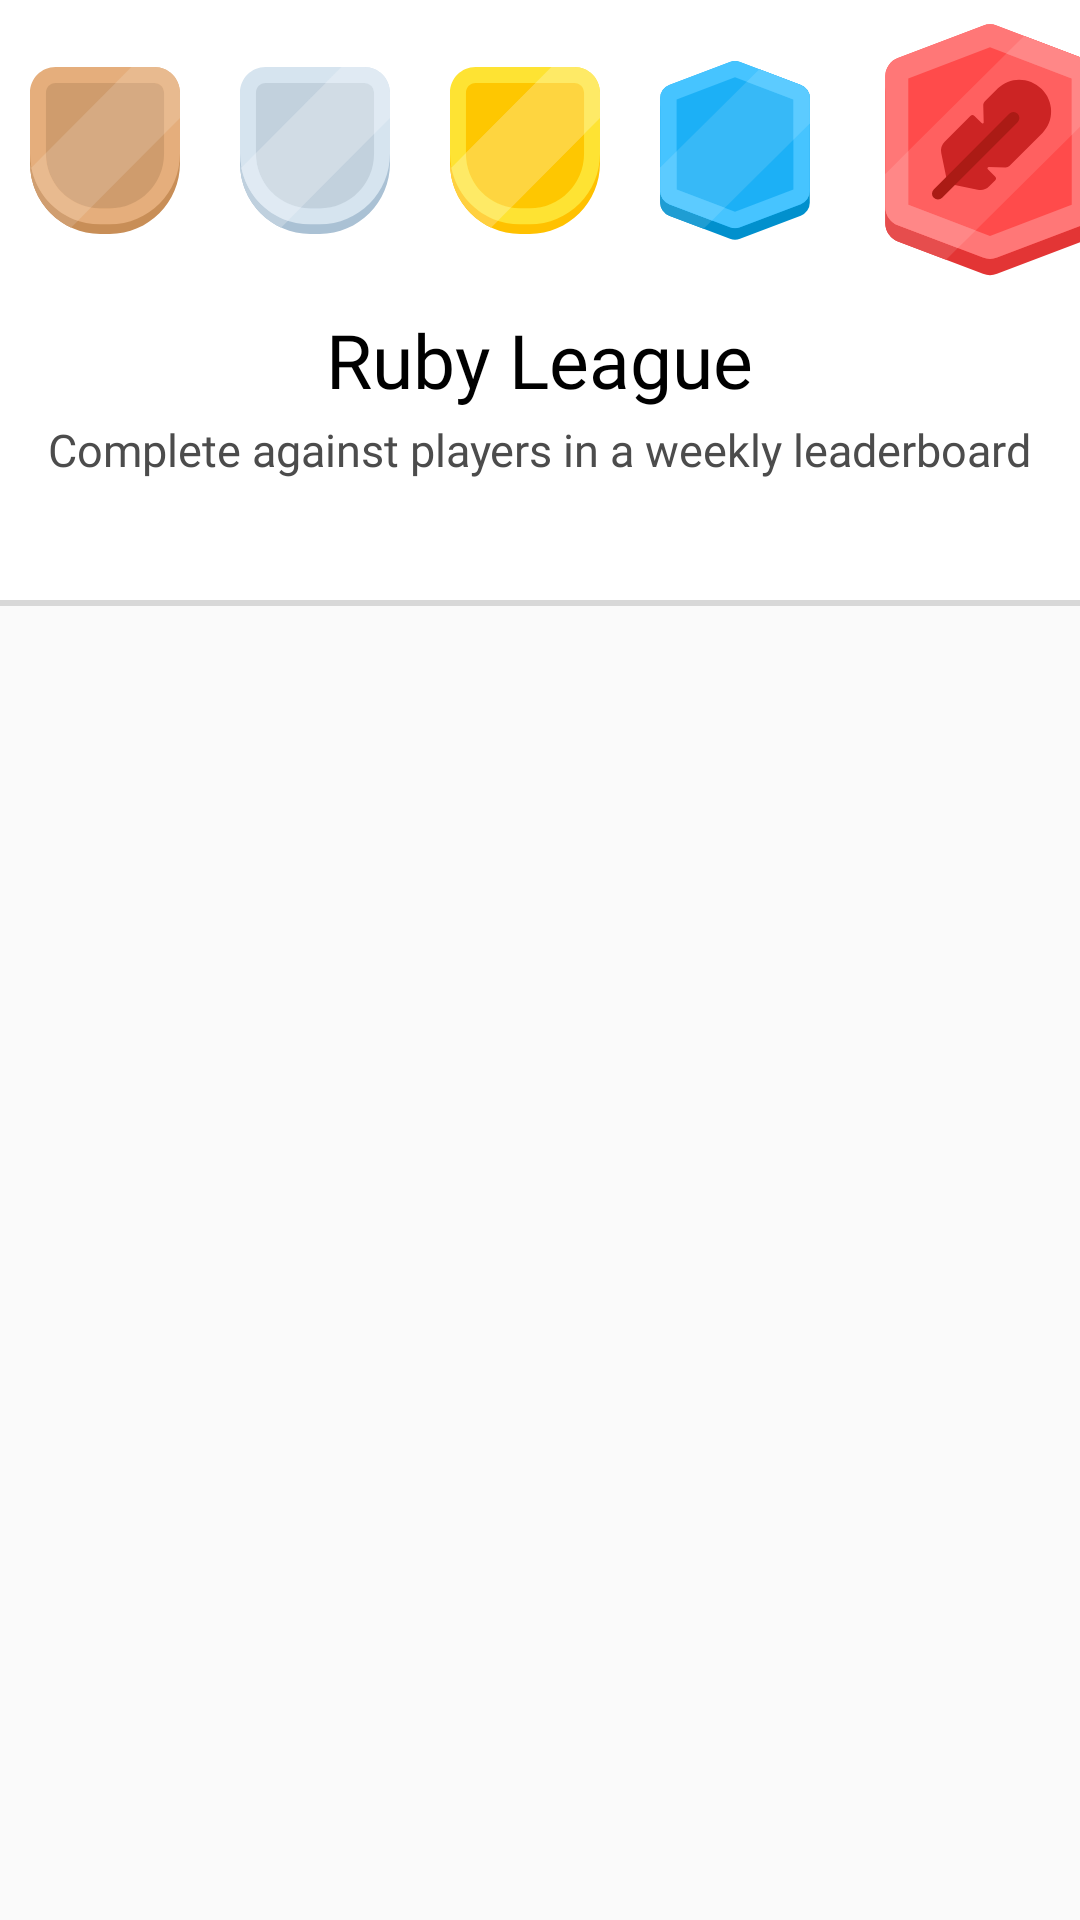

Icons on this 1080x1920 Android screen, each with its box as (x1, y1, x2, y2):
A bronze medal: (30, 67, 180, 234)
A gold medal: (450, 67, 600, 234)
A sapphire medal: (660, 61, 810, 240)
A silver medal: (240, 67, 390, 234)
